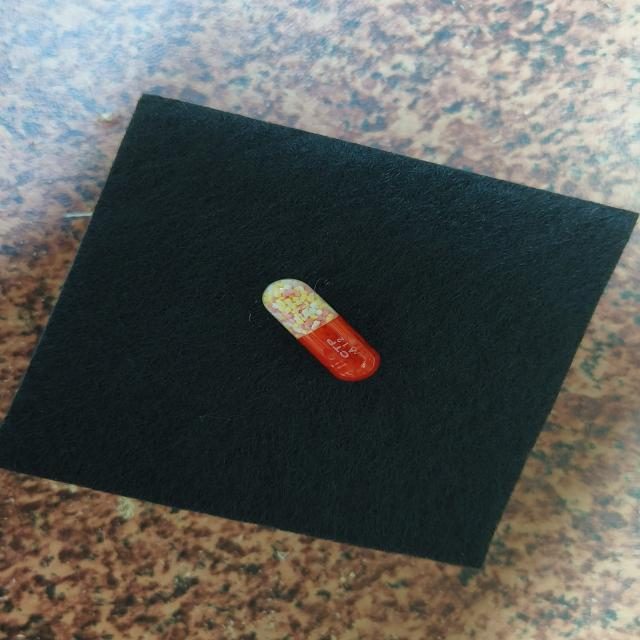Intact Capsule: (262, 279, 380, 381)
